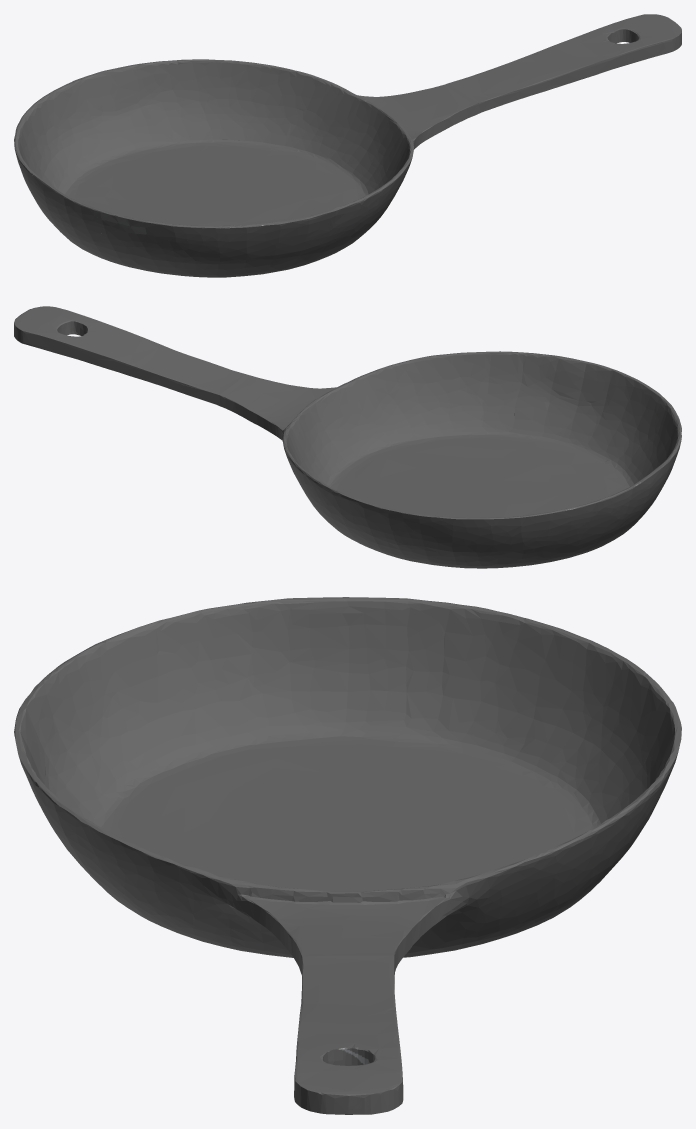
File: frypan.glb
3 views of the same model, one above another, from view 1: azimuth 30°, elevation 25°; view 2: azimuth 150°, elevation 25°; view 3: azimuth 270°, elevation 25° (orthographic). The views are drawn at different scales.
Visible parts, largest first — view 1: world; view 2: world; view 3: world.
Part boxes in pixels (x1,y1,x2,y2): world: (14, 14, 681, 277); world: (14, 306, 681, 568); world: (14, 597, 681, 1114).
Bounding box in the file's own units: 1 × 0.1174 × 0.5545.
Materials: 1 (1 with a texture image).
